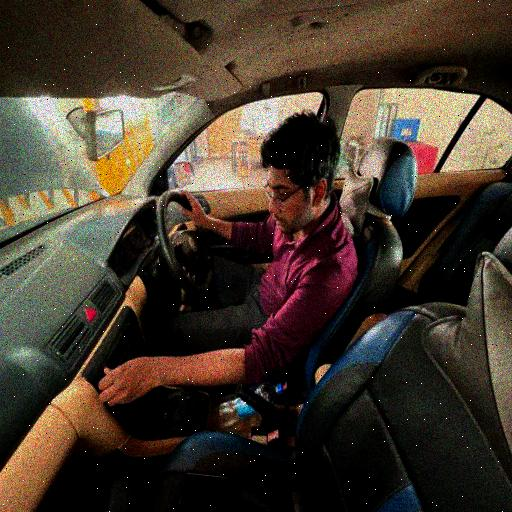operatingradio: (95, 110, 362, 408)
